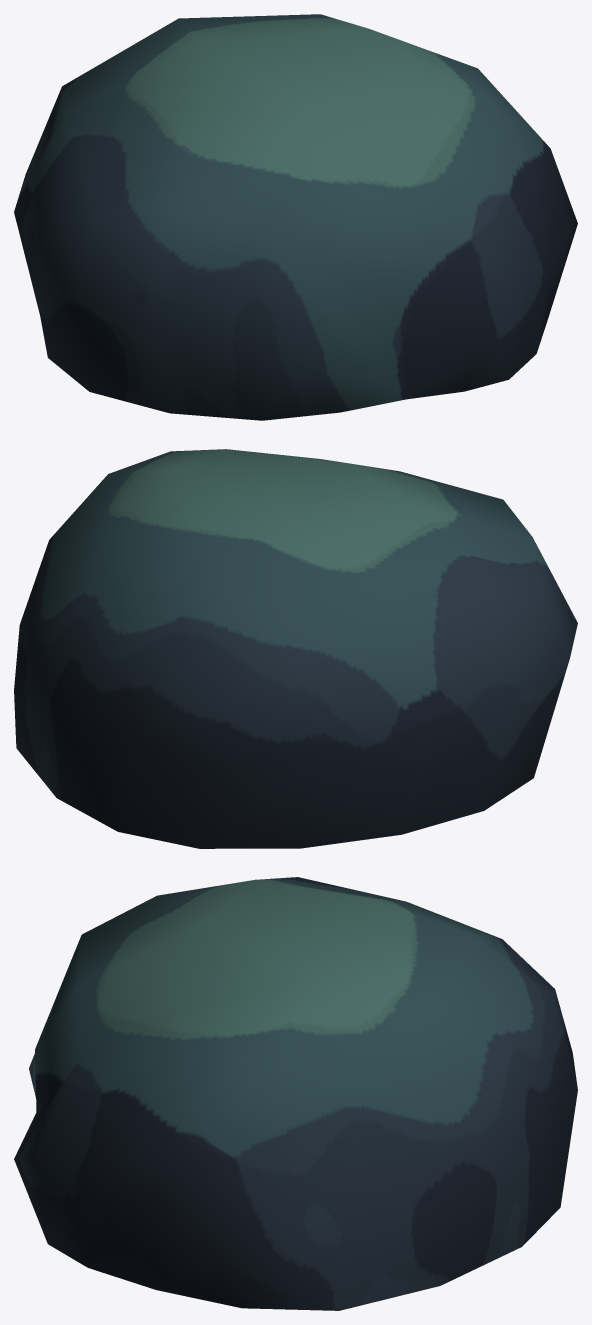
Rendered from Common Brain Coral 1_preview_3DS_simplified.glb.
3 views of the same model, one above another, from view 1: azimuth 30°, elevation 25°; view 2: azimuth 150°, elevation 25°; view 3: azimuth 270°, elevation 25° (orthographic). The views are drawn at different scales.
Parts seen in each view (by area): view 1: Marine Park Empire model; view 2: Marine Park Empire model; view 3: Marine Park Empire model.
Part boxes in pixels (x1=…): Marine Park Empire model: x1=14, y1=14, x2=577, y2=420; Marine Park Empire model: x1=14, y1=449, x2=577, y2=848; Marine Park Empire model: x1=14, y1=877, x2=577, y2=1310.
Size of the model in its own units: 37.2 by 18.51 by 35.35.
1 material, 1 textured.
